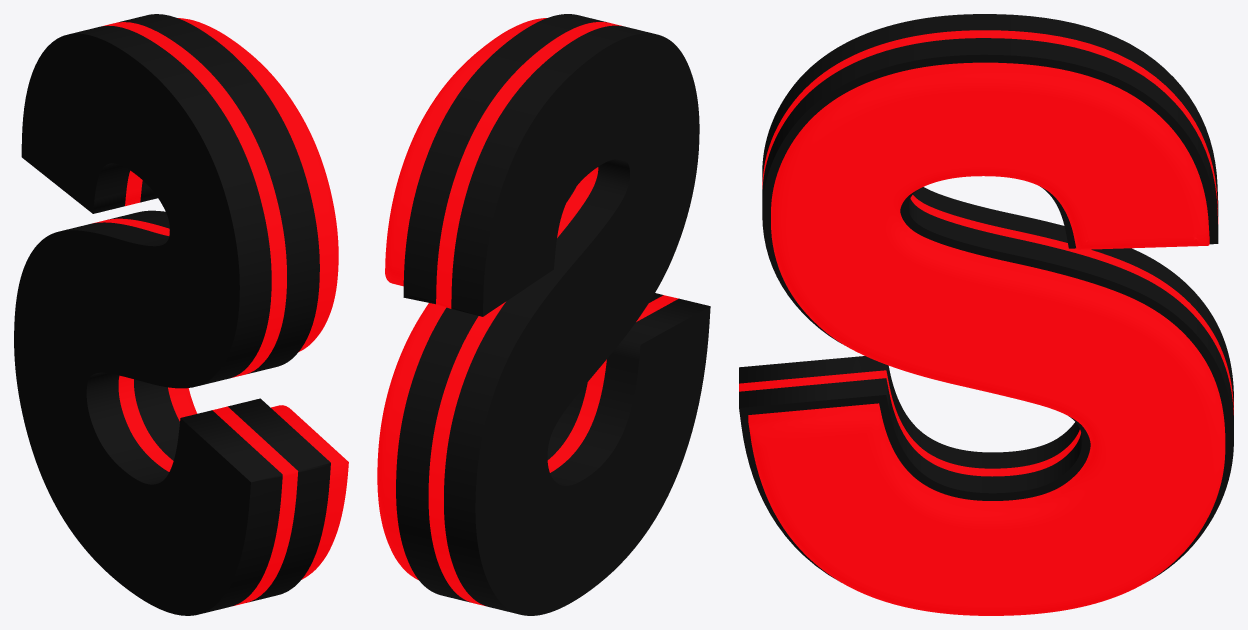
File: product1_design2.glb
The picture shows the model from 3 angles, left to right: view 1: azimuth 30°, elevation 25°; view 2: azimuth 150°, elevation 25°; view 3: azimuth 270°, elevation 25°; orthographic projection. The views are drawn at different scales.
Visible parts, largest first — view 1: Curve.030, Curve.033; view 2: Curve.030, Curve.033; view 3: Curve.033, Curve.030.
Part boxes in pixels (x1,y1,x2,y2): Curve.030: (14,14,330,615); Curve.033: (168,18,348,579); Curve.030: (396,14,710,615); Curve.033: (377,18,546,580); Curve.033: (748,62,1225,615); Curve.030: (739,14,1233,582).
Size of the model in its own units: 0.0677 by 0.3199 by 0.2565.
